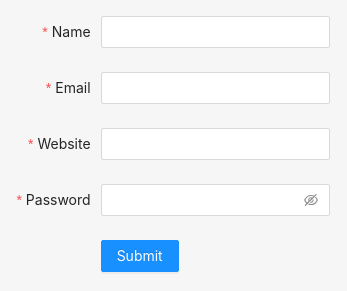
it: RegistrationForm › email is validated correctly
This screenshot has width=347, height=291.
Type "foo" into the field labelled "Email" at (215, 88), box 101,72 -> 330,104
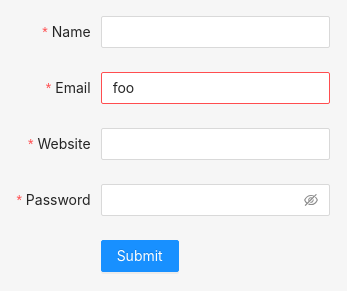
Click the button "Submit" at (140, 256), box 101,240 -> 179,272
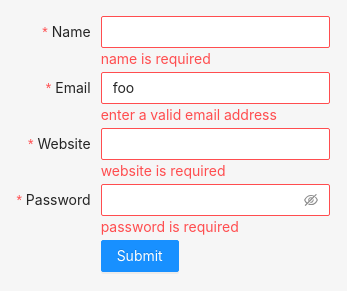
Result: the text "enter a valid email address" is shown at 101,106 -> 277,123
